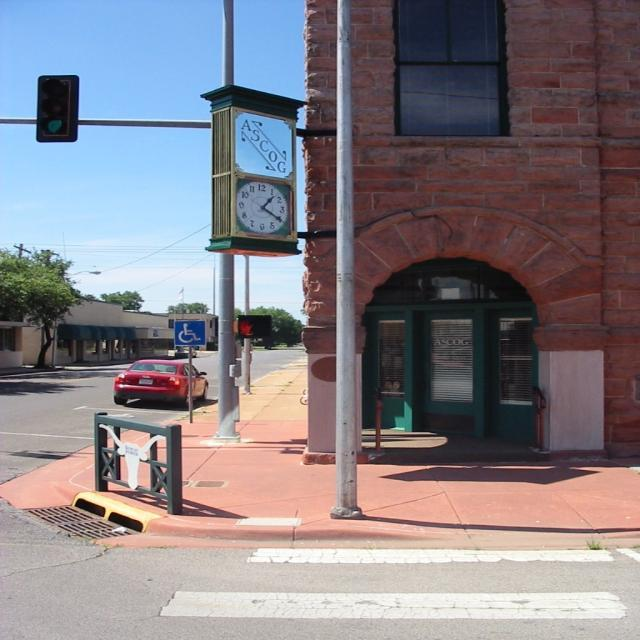traffic light: (34, 73, 81, 145), (239, 316, 273, 340)
